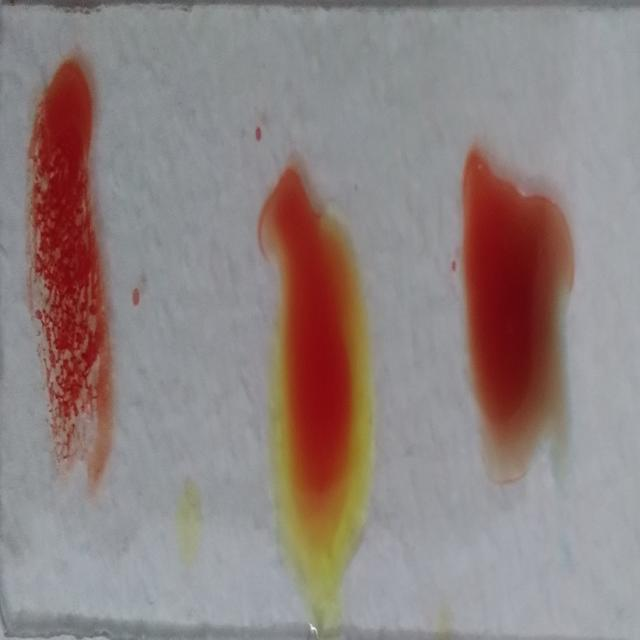D: (25, 62, 115, 493)
